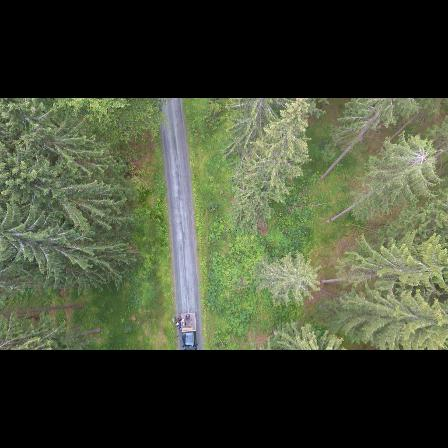Sick: (406, 138, 436, 176)
